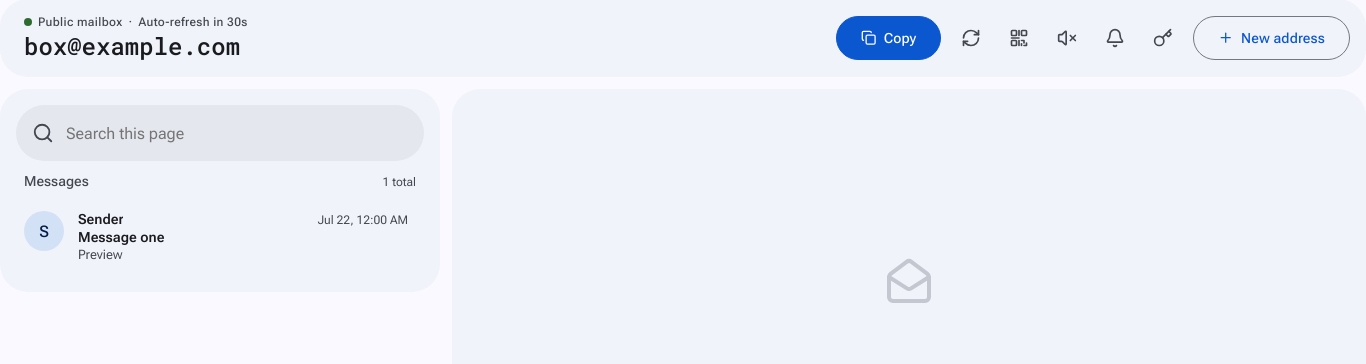
Test: InboxView polling › shows search-specific empty copy when this page has no matches
This screenshot has width=1366, height=364.
Type "nothing" into the search field with placeholder "Search this page". click: (237, 133)
box: [66,124,408,142]
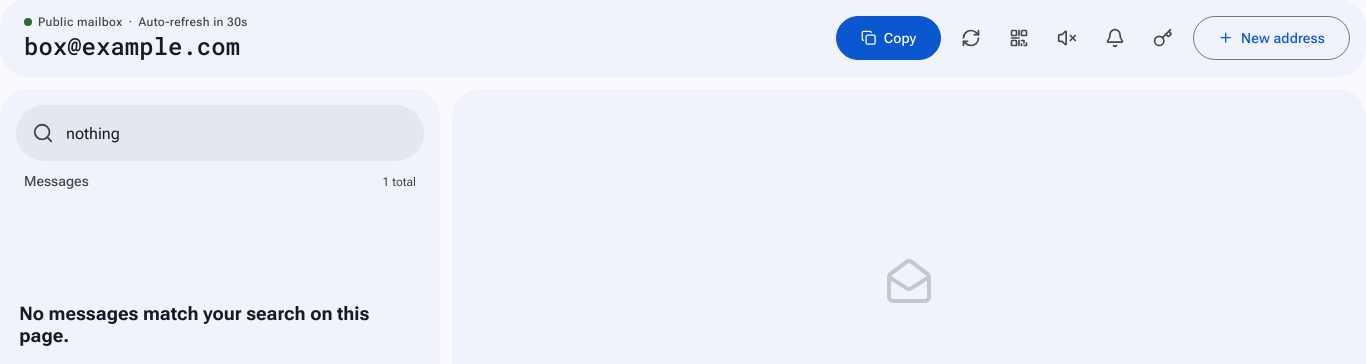
Check: the text "No messages match your search on this page." is shown, box [19,303,421,347]
